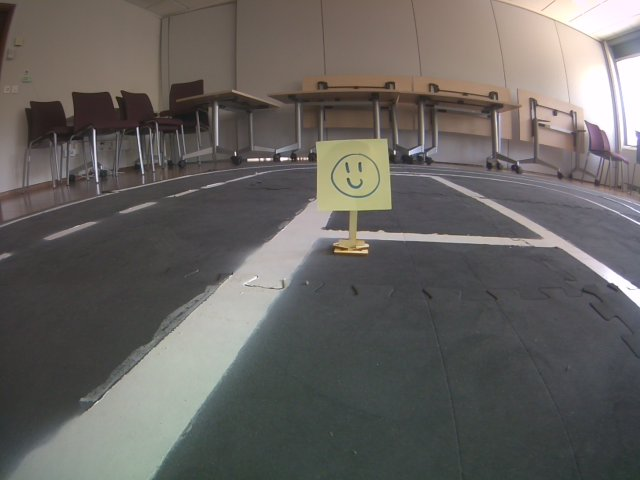Smiley: (315, 138, 393, 212)
